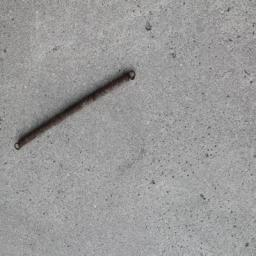FOD: (12, 68, 142, 154)
